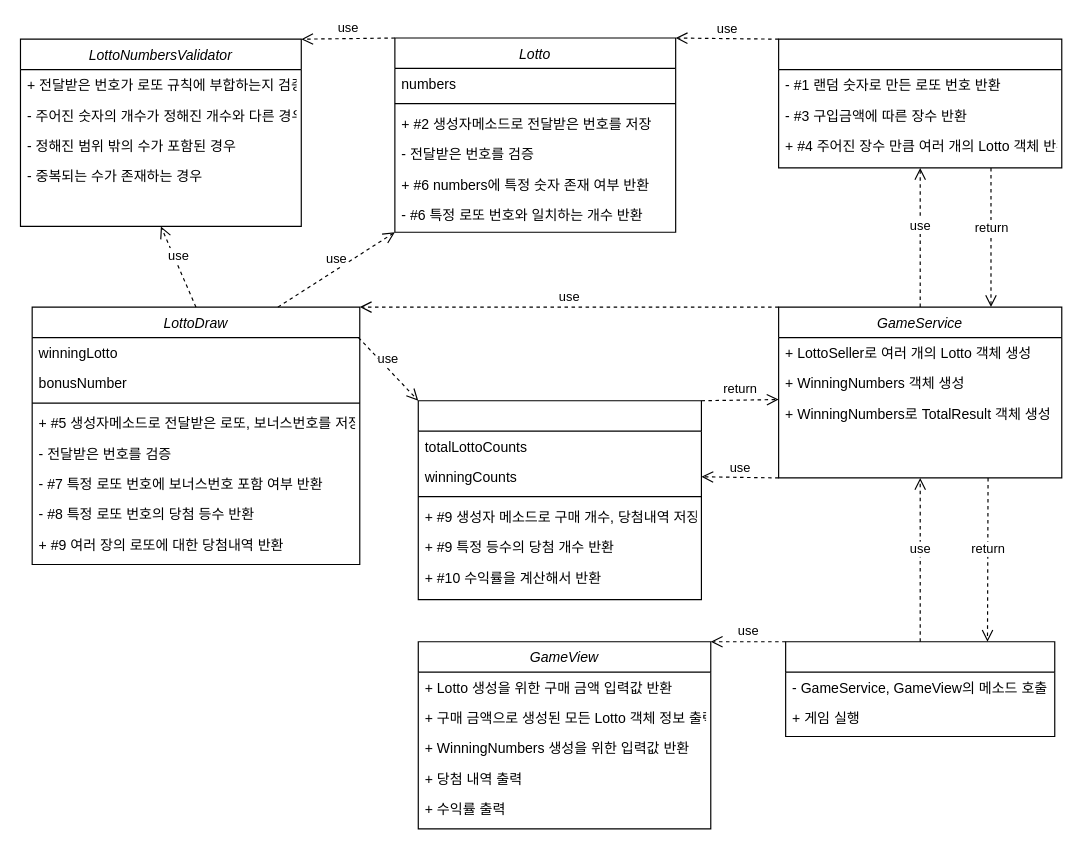
Some shapes in this 1088 by 851 pixel diagram are drawn without their labels. The box of each missing label's shape, as (x1, y1, x2, y2) in pixels:
GameController: (784, 641, 1055, 737)
LottoSeller: (777, 38, 1062, 168)
TotalResult: (417, 400, 701, 600)
